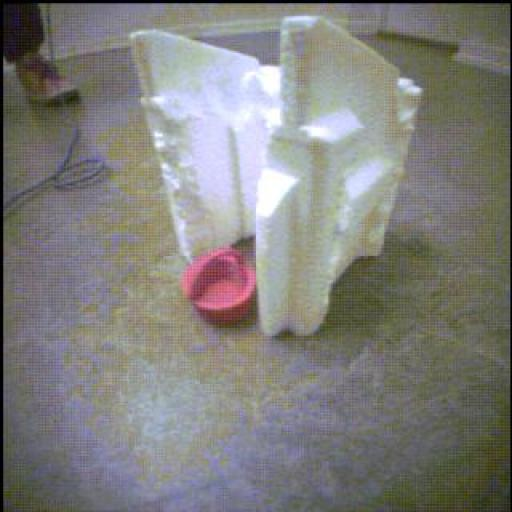Bucket: (182, 247, 257, 326)
